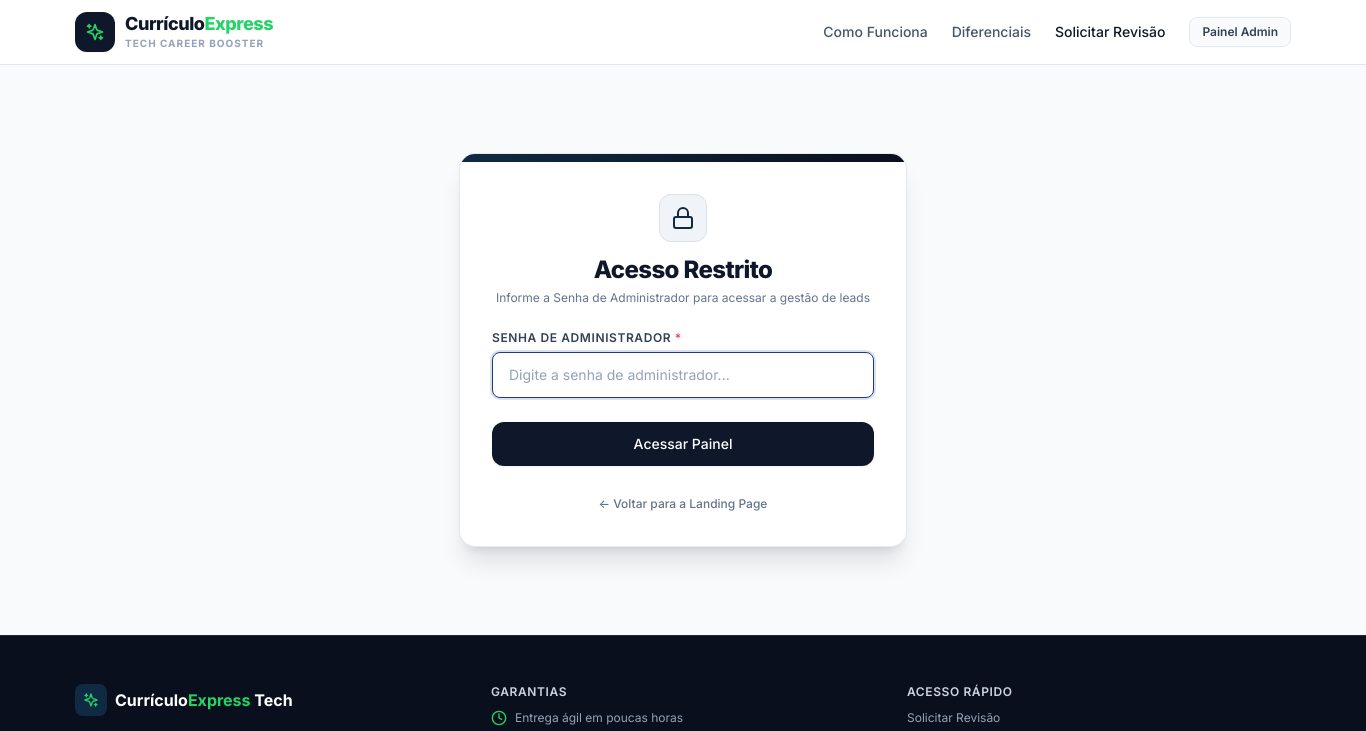
it: Admin Authentication and Lead Deletion Features › Feature 1: Simple Admin Authentication (/admin access gate) › authenticates with default static password "admin123" and unlocks dashboard
The width and height of the screenshot is (1366, 731).
Step 1. Type "admin123" into the password field labelled "Senha de Administrador *" → {"x": 683, "y": 375}, box x1=492 y1=352 x2=874 y2=398
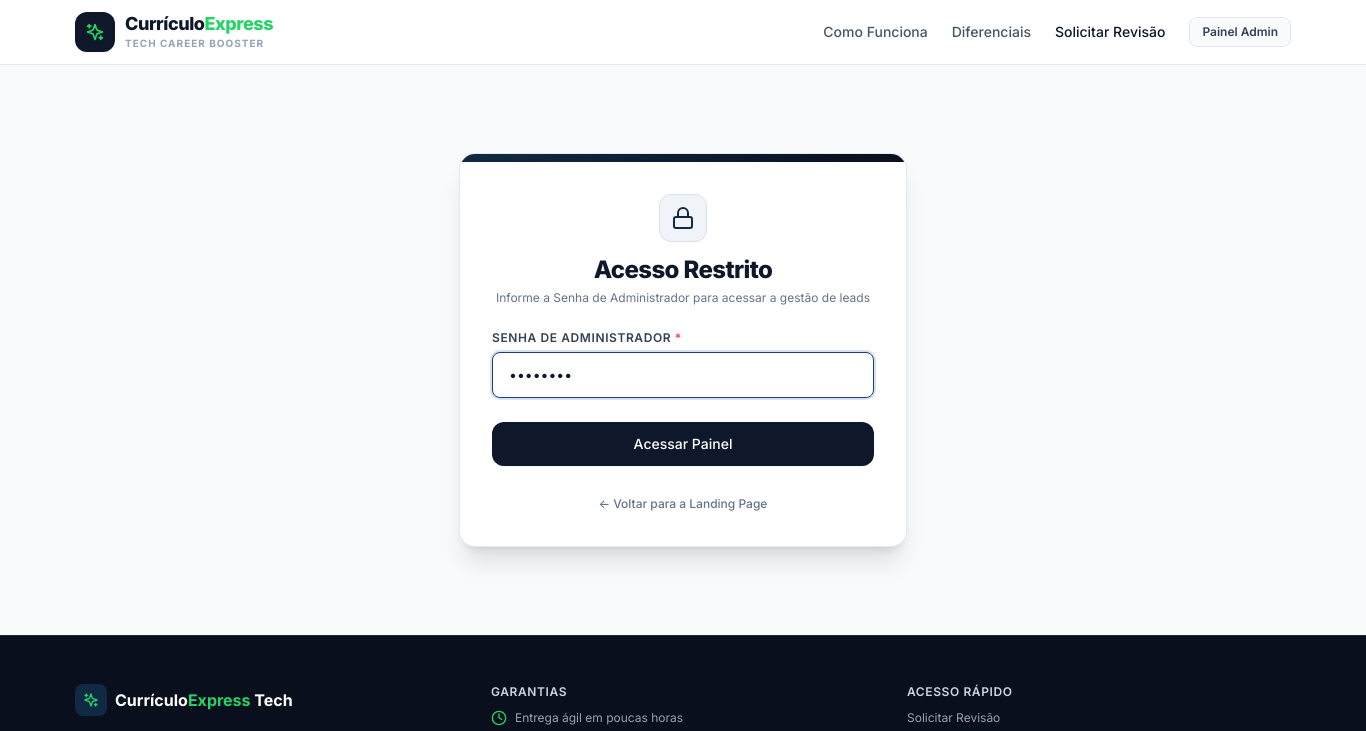
Step 2. Click the button "Acessar Painel" → {"x": 683, "y": 444}, box x1=492 y1=422 x2=874 y2=466
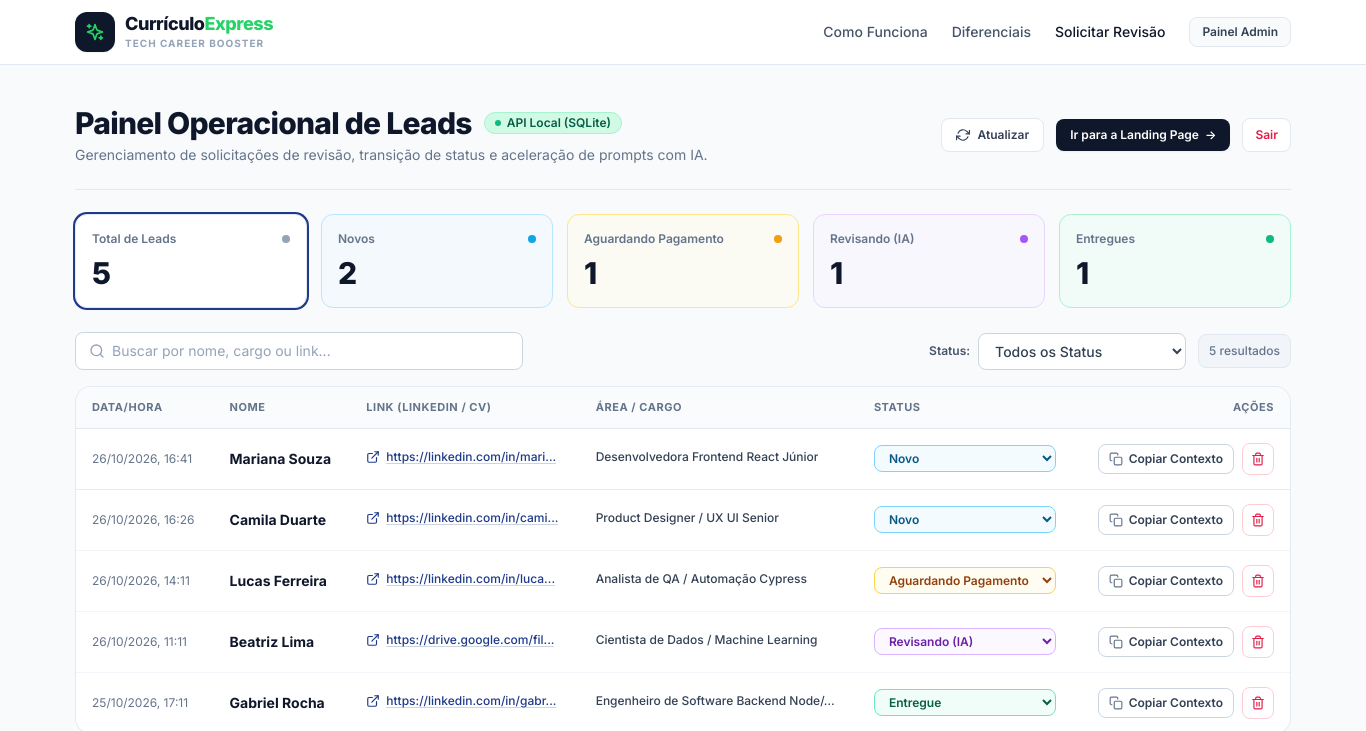
Result: the heading "Painel Operacional de Leads" is shown at x1=75 y1=105 x2=472 y2=141
Result: the column heading "Data/Hora" is shown at x1=76 y1=387 x2=214 y2=428
Result: the text "Mariana Souza" is shown at x1=230 y1=448 x2=334 y2=468
